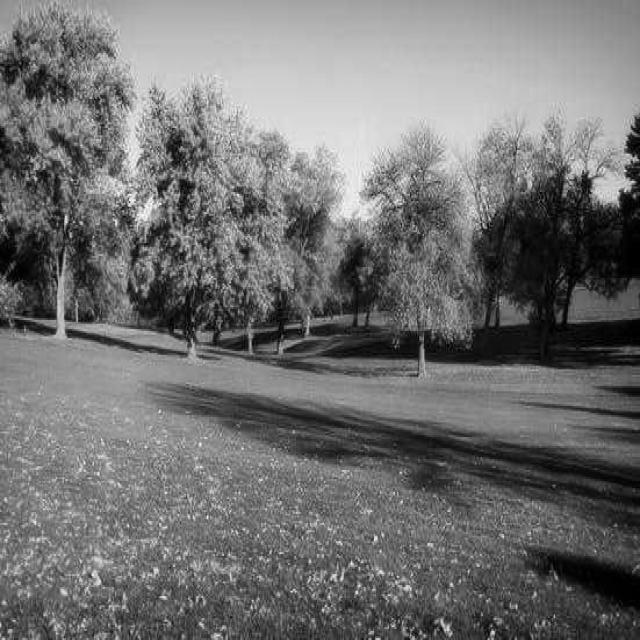Tree: (0, 8, 134, 337), (136, 88, 276, 364), (362, 124, 472, 377), (462, 126, 538, 328), (511, 114, 569, 359), (284, 147, 342, 336)
